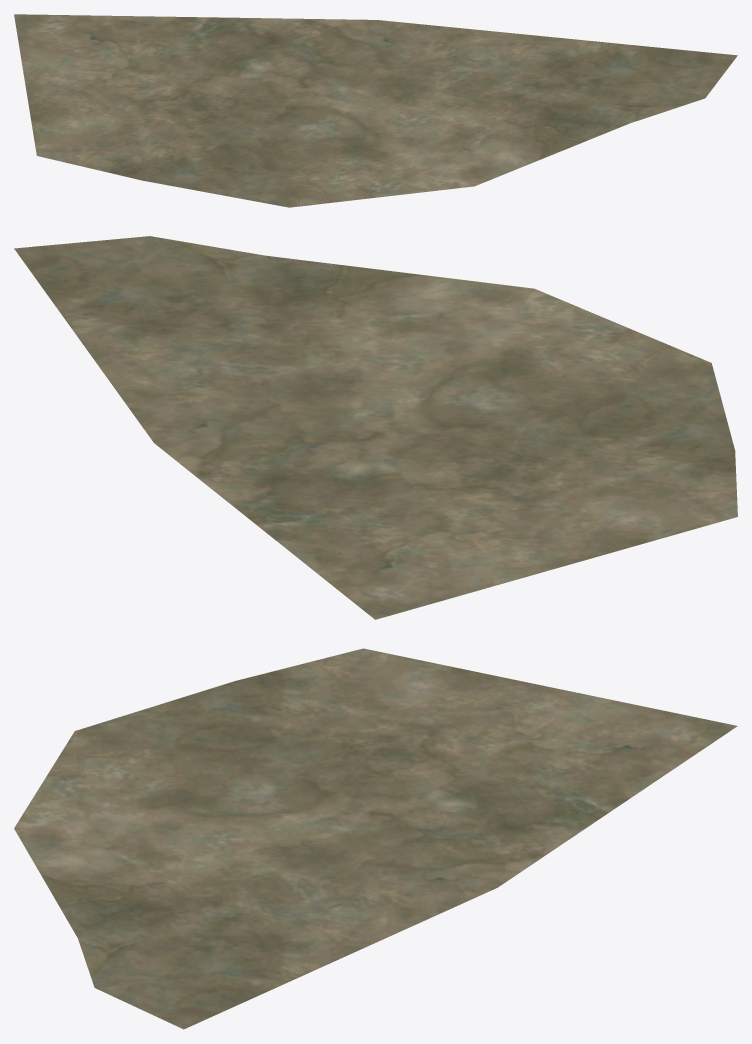
File: OVERHILL_A_01_GROUND_26.fbx
The picture shows the model from 3 angles, top to bottom: view 1: azimuth 30°, elevation 25°; view 2: azimuth 150°, elevation 25°; view 3: azimuth 270°, elevation 25°; orthographic projection. The views are drawn at different scales.
Visible parts, largest first — view 1: OVERHILL_A_01_GROUND_26; view 2: OVERHILL_A_01_GROUND_26; view 3: OVERHILL_A_01_GROUND_26.
Boxes of the visible parts, <box> form: OVERHILL_A_01_GROUND_26: <box>14,14,737,207</box>; OVERHILL_A_01_GROUND_26: <box>14,236,737,619</box>; OVERHILL_A_01_GROUND_26: <box>14,648,737,1029</box>.
Bounding box in the file's own units: 28918 × 0.00378 × 23218.
Materials: 1 (1 with a texture image).
